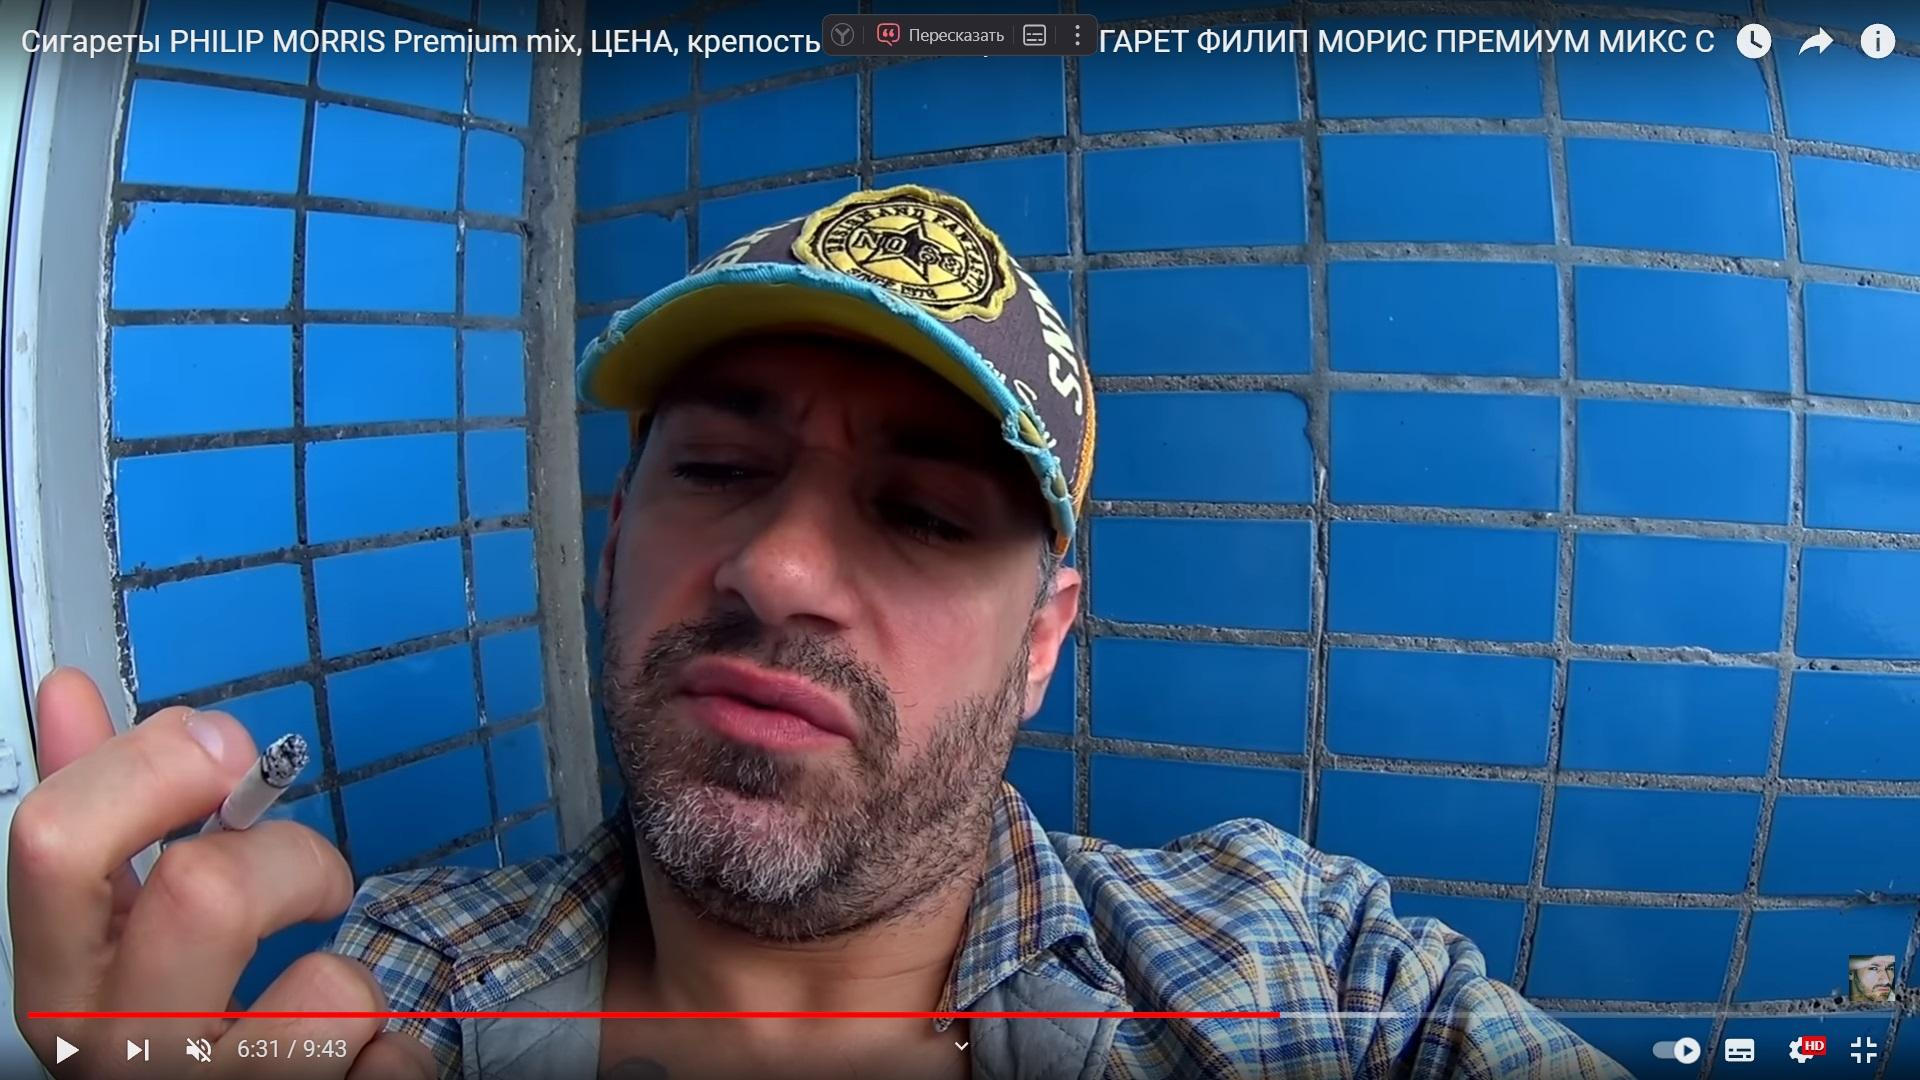cigarette: (199, 733, 310, 832)
